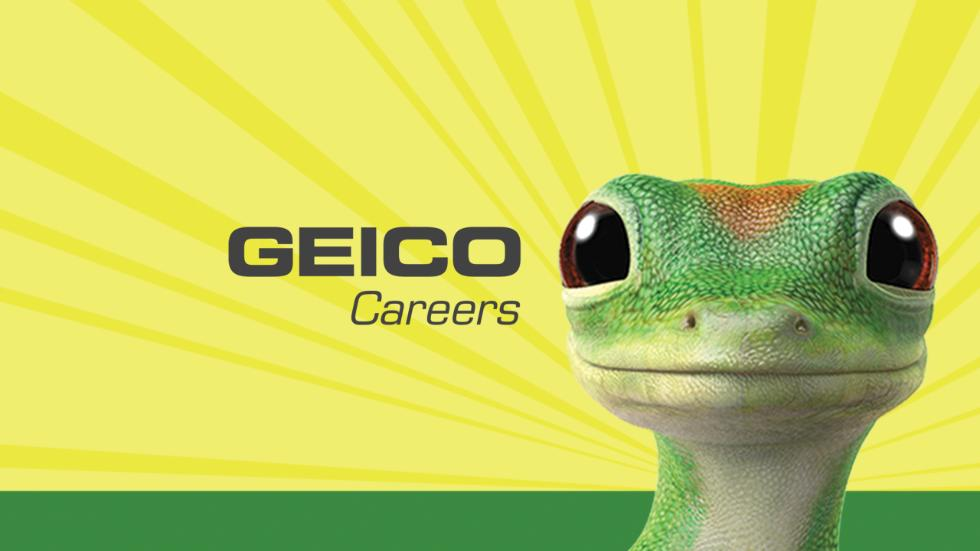geico: (225, 218, 531, 283)
